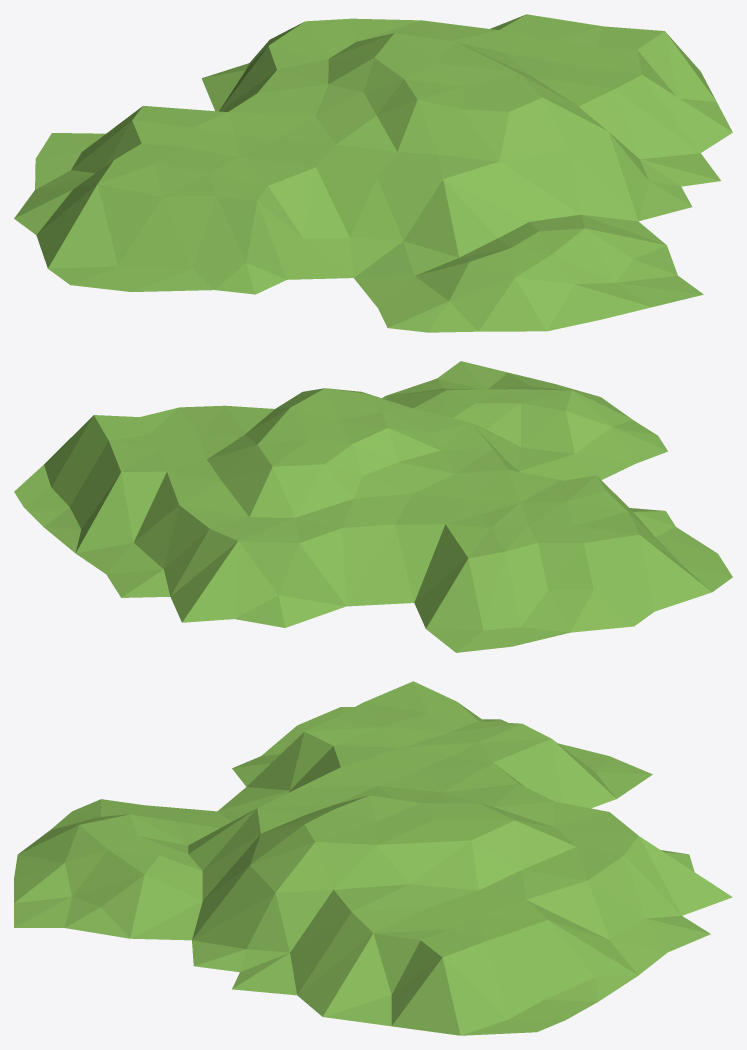
File: MT_Mountain_M_b_06_LOD.fbx
3 views of the same model, one above another, from view 1: azimuth 30°, elevation 25°; view 2: azimuth 150°, elevation 25°; view 3: azimuth 270°, elevation 25° (orthographic). The views are drawn at different scales.
Parts seen in each view (by area): view 1: MT_Mountain_M_b_06_LOD0; view 2: MT_Mountain_M_b_06_LOD0; view 3: MT_Mountain_M_b_06_LOD0.
Boxes of the visible parts, box(x1,y1,x2,y2) form: MT_Mountain_M_b_06_LOD0: box(14, 14, 732, 332); MT_Mountain_M_b_06_LOD0: box(14, 361, 732, 652); MT_Mountain_M_b_06_LOD0: box(14, 681, 732, 1035).
Size of what is drawn, in the model's own units: 4180 by 498 by 3867.
